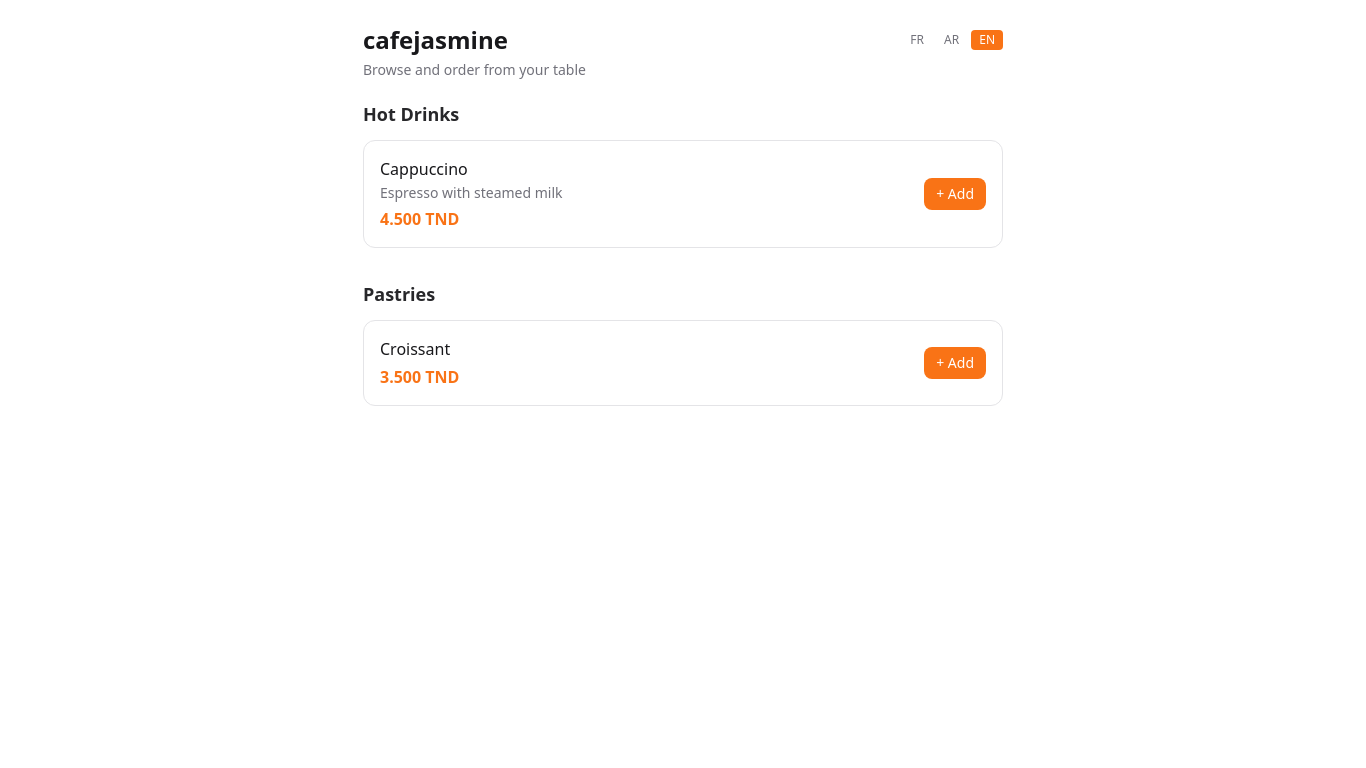
CustomerMenu › disables Place order when no qrToken in URL
Expected: the text "Cappuccino" is shown, [380,158,468,180]
What coordinates should you click on to do the following:
click the button "+ Add" in the row of "Espresso with steamed milk"
I would click on:
 (955, 194)
Its box is [924,178,986,210].
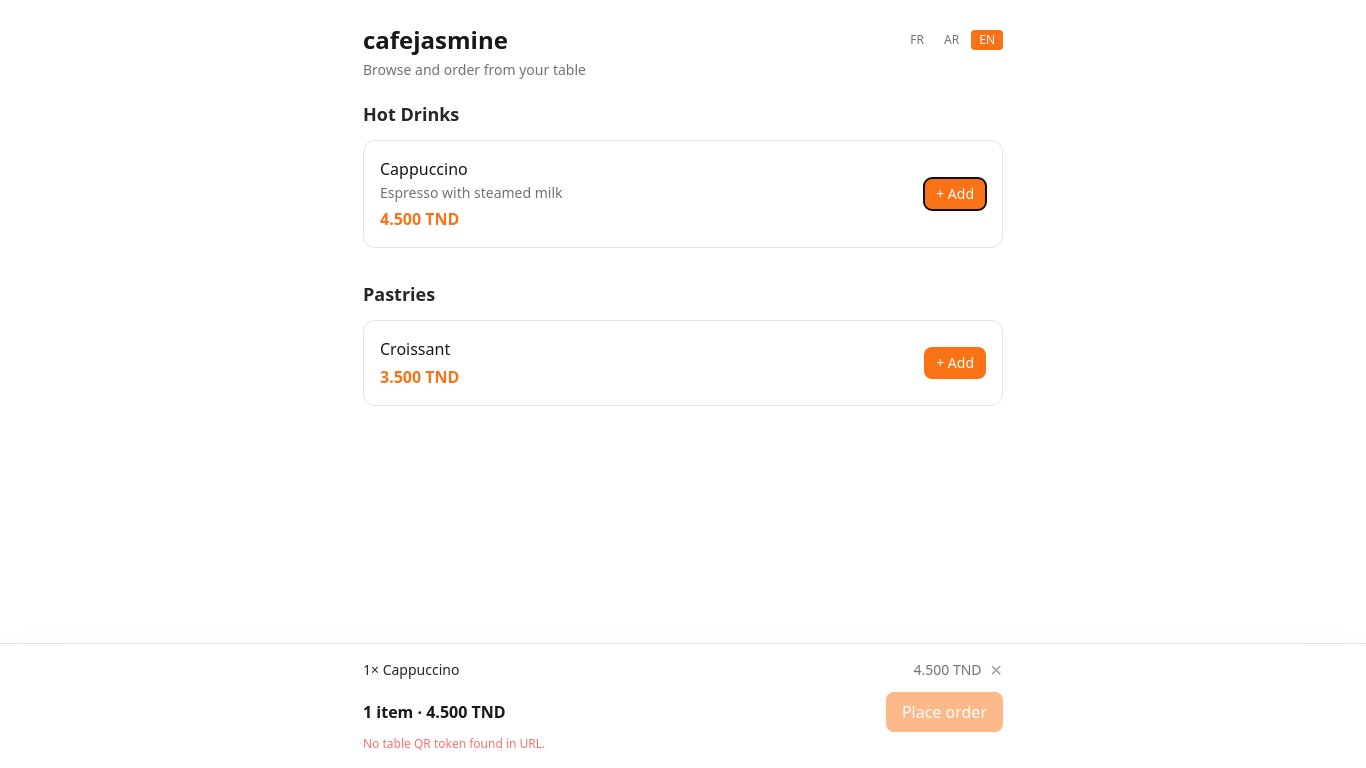
Result: the button "Place order" is disabled at [886,692,1003,732]
Result: the text "No table QR token found in URL." is shown at [363,735,545,752]
